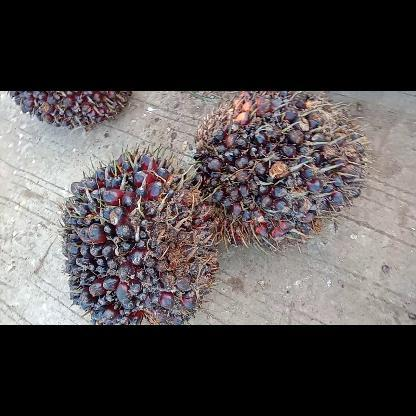TBS mentah: (60, 150, 218, 324), (194, 90, 366, 246), (5, 91, 133, 129)
